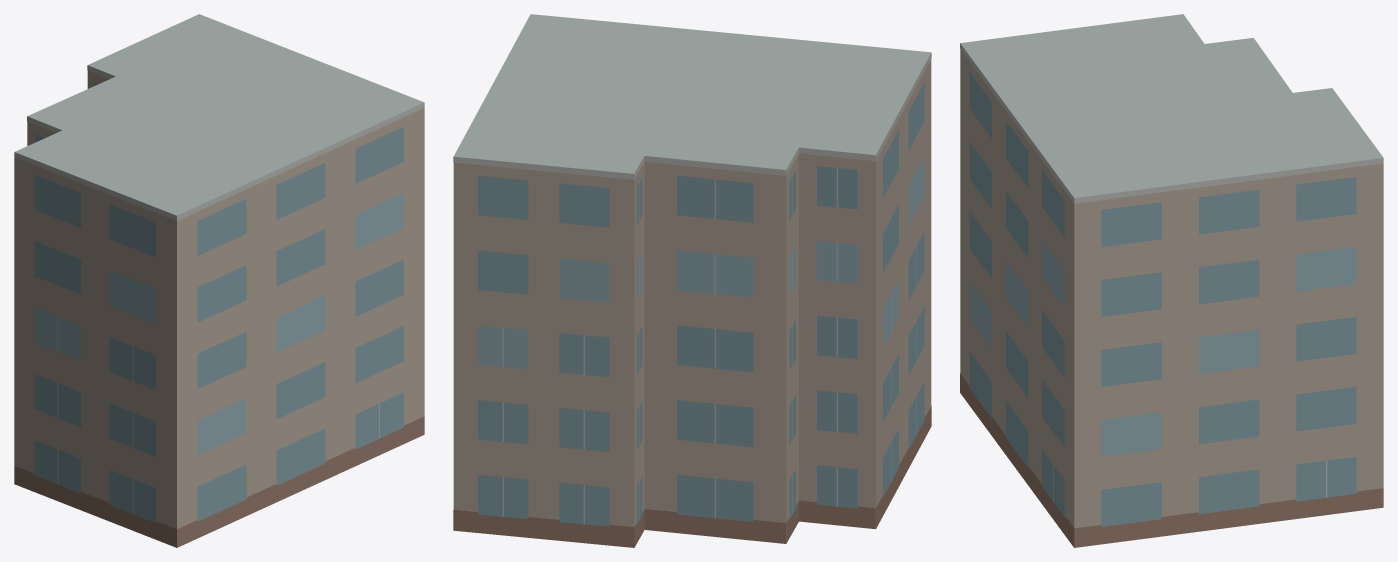
File: survey-upis-32682104.glb
3 renders of one model, left to right at view 1: azimuth 30°, elevation 25°; view 2: azimuth 150°, elevation 25°; view 3: azimuth 270°, elevation 25°, orthographic. The views are drawn at different scales.
Parts seen in each view (by area): view 1: survey-upis-32682104.tmp; view 2: survey-upis-32682104.tmp; view 3: survey-upis-32682104.tmp.
Boxes of the visible parts, box(x1,y1,x2,y2) form: survey-upis-32682104.tmp: box(14, 14, 424, 547); survey-upis-32682104.tmp: box(453, 14, 931, 547); survey-upis-32682104.tmp: box(960, 14, 1383, 547).
Bounding box in the file's own units: 17.23 × 15.25 × 16.75.
